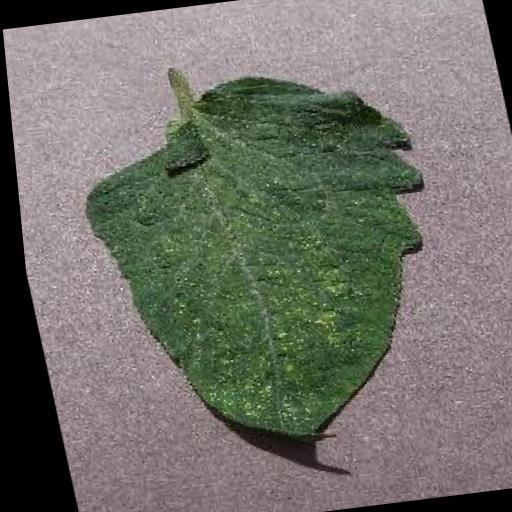Spider Mites: (56, 58, 472, 460)
